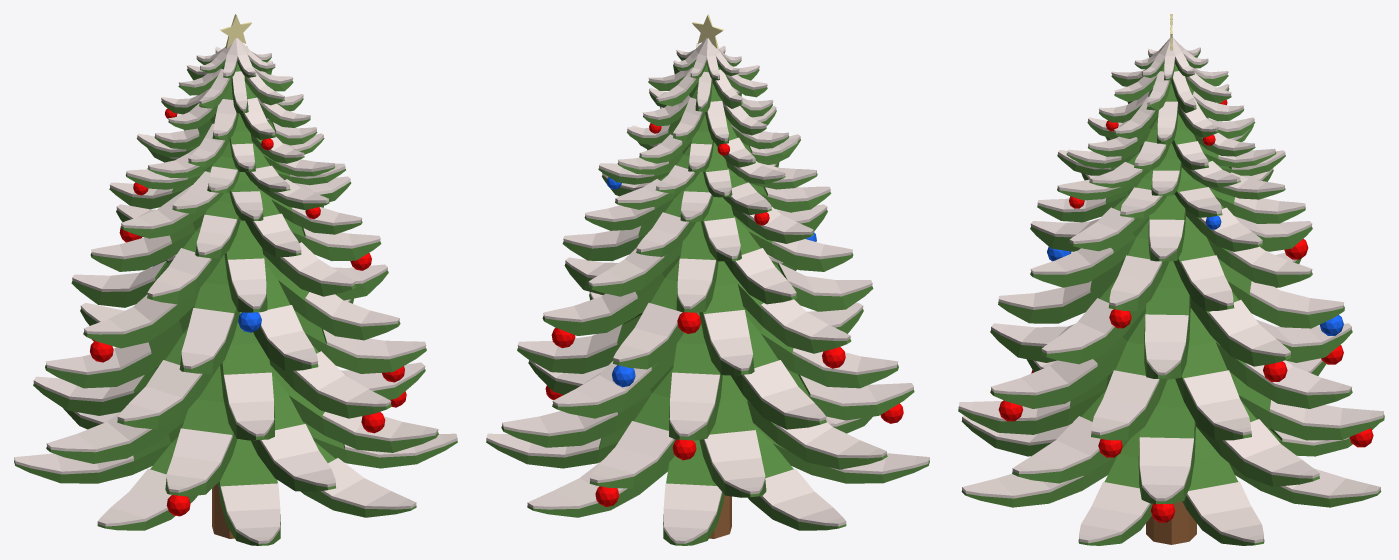
File: christmasTree.obj
3 views of the same model, side by side, from view 1: azimuth 30°, elevation 25°; view 2: azimuth 150°, elevation 25°; view 3: azimuth 270°, elevation 25° (orthographic).
Visible parts, largest first — view 1: Cylinder; view 2: Cylinder; view 3: Cylinder.
Part boxes in pixels (bbox=[...]): Cylinder: bbox=[14, 14, 457, 545]; Cylinder: bbox=[486, 14, 929, 545]; Cylinder: bbox=[958, 14, 1384, 545].
Bounding box in the file's own units: 162 × 219 × 162.
1 material, 1 textured.
